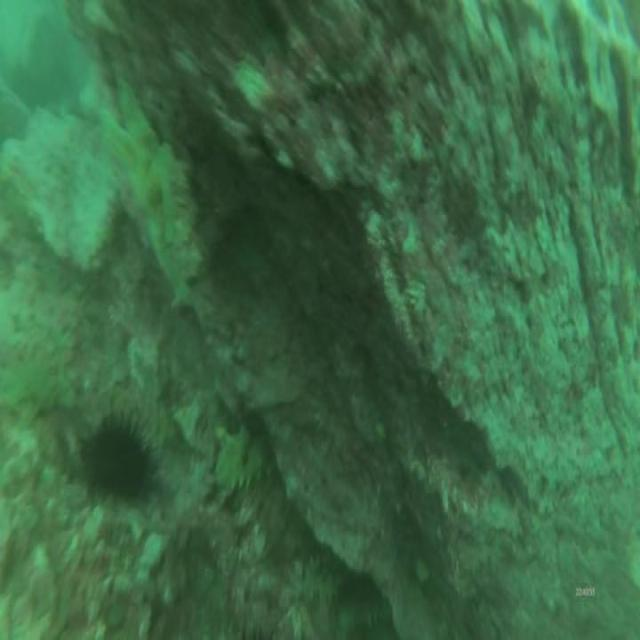echinus: (72, 406, 157, 515)
holothurian: (0, 356, 81, 432), (209, 423, 279, 501), (285, 539, 363, 605), (335, 588, 394, 637)
starfish: (99, 76, 194, 308)
